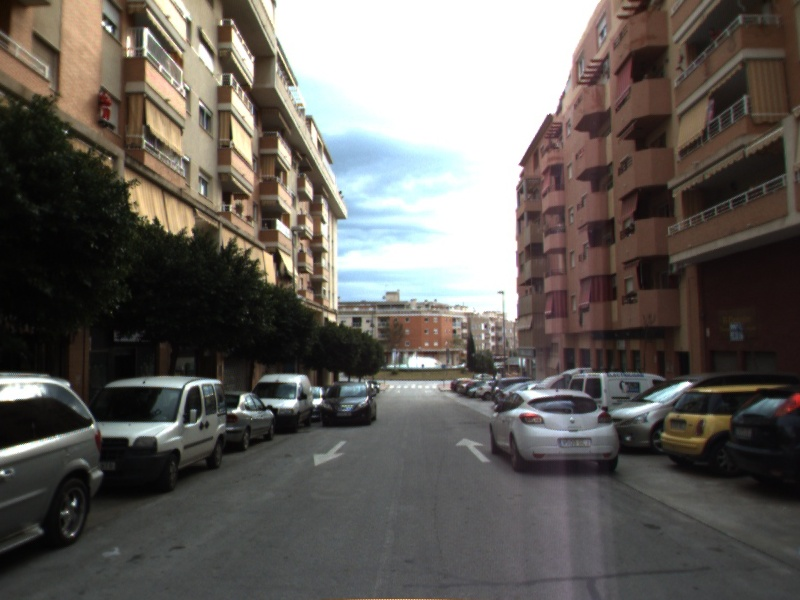STRAIGHT: (454, 436, 493, 464)
